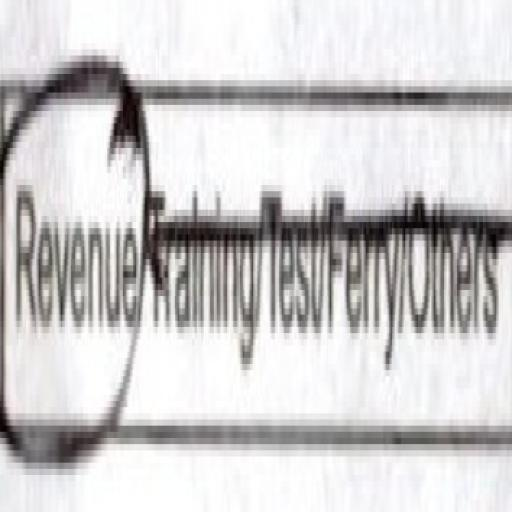check: (0, 0, 144, 487)
